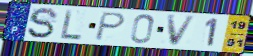0: (130, 13, 156, 44)
1: (203, 17, 218, 48)
L: (60, 9, 84, 41)
P: (93, 11, 128, 42)
S: (26, 7, 60, 40)
V: (166, 14, 199, 48)
